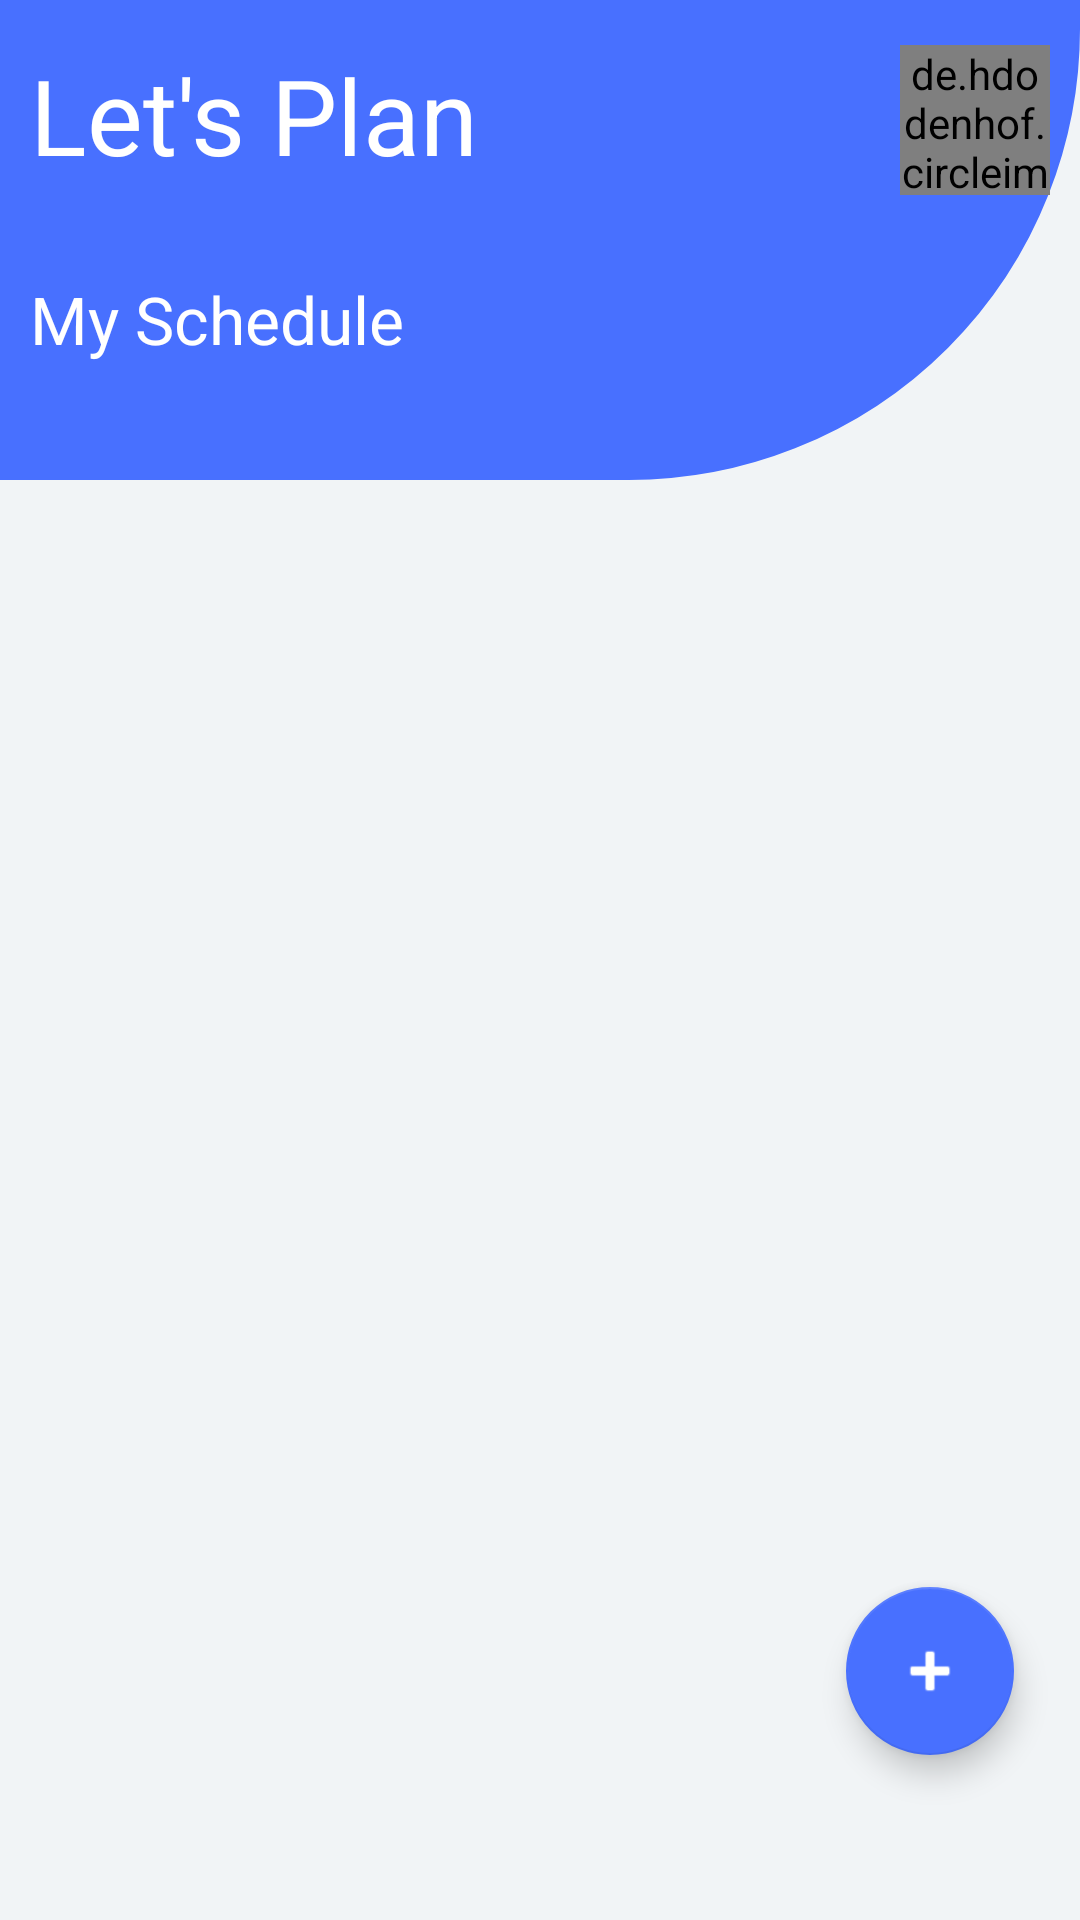

Icon bounding boxes for this 1080px×1920px phone screenshot, format {"left": x1, "top": y1, "right": x2, "bottom": y2}:
add: {"left": 846, "top": 1587, "right": 1014, "bottom": 1755}
